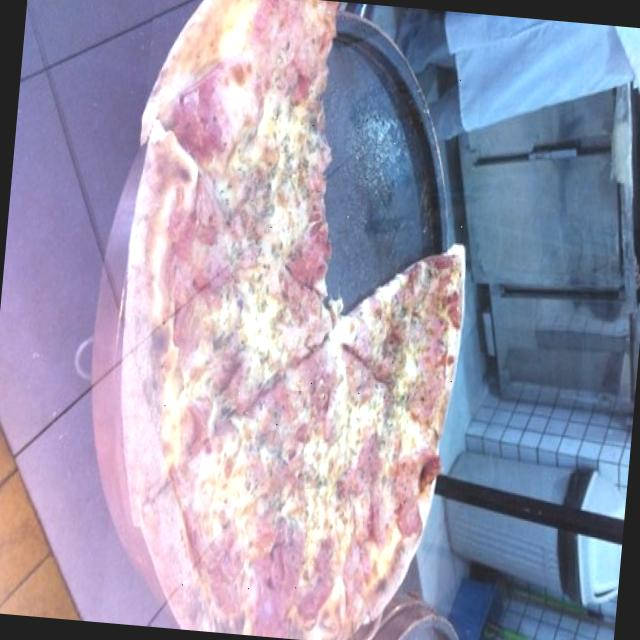pizza: (121, 0, 464, 640)
